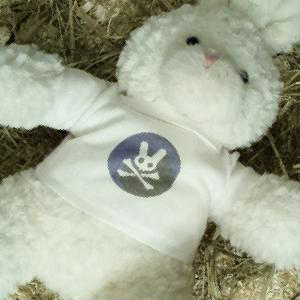bunny: (107, 131, 183, 199)
